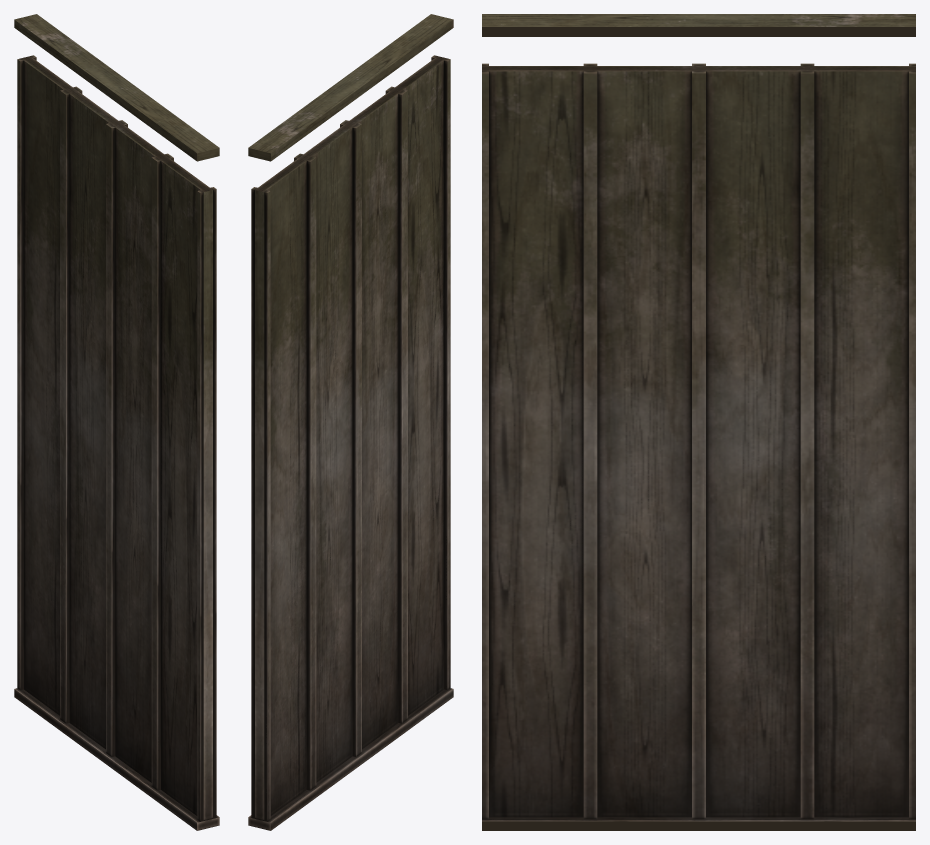
File: JT_Gy_Fence_A_01_x1.fbx
3 views of the same model, side by side, from view 1: azimuth 30°, elevation 25°; view 2: azimuth 150°, elevation 25°; view 3: azimuth 270°, elevation 25° (orthographic). The views are drawn at different scales.
Parts seen in each view (by area): view 1: JT_Gy_Fence_A_01_x1, JT_Gy_Fence_A_01_x1_LOD0; view 2: JT_Gy_Fence_A_01_x1, JT_Gy_Fence_A_01_x1_LOD0; view 3: JT_Gy_Fence_A_01_x1, JT_Gy_Fence_A_01_x1_LOD0.
Part boxes in pixels (x1=…): JT_Gy_Fence_A_01_x1: x1=14, y1=14, x2=219, y2=830; JT_Gy_Fence_A_01_x1_LOD0: x1=14, y1=26, x2=219, y2=821; JT_Gy_Fence_A_01_x1: x1=248, y1=14, x2=453, y2=827; JT_Gy_Fence_A_01_x1_LOD0: x1=248, y1=14, x2=453, y2=830; JT_Gy_Fence_A_01_x1: x1=482, y1=14, x2=915, y2=830; JT_Gy_Fence_A_01_x1_LOD0: x1=482, y1=14, x2=915, y2=830.
Size of what is drawn, in the model's own units: 0.0714 by 2.04 by 1.
